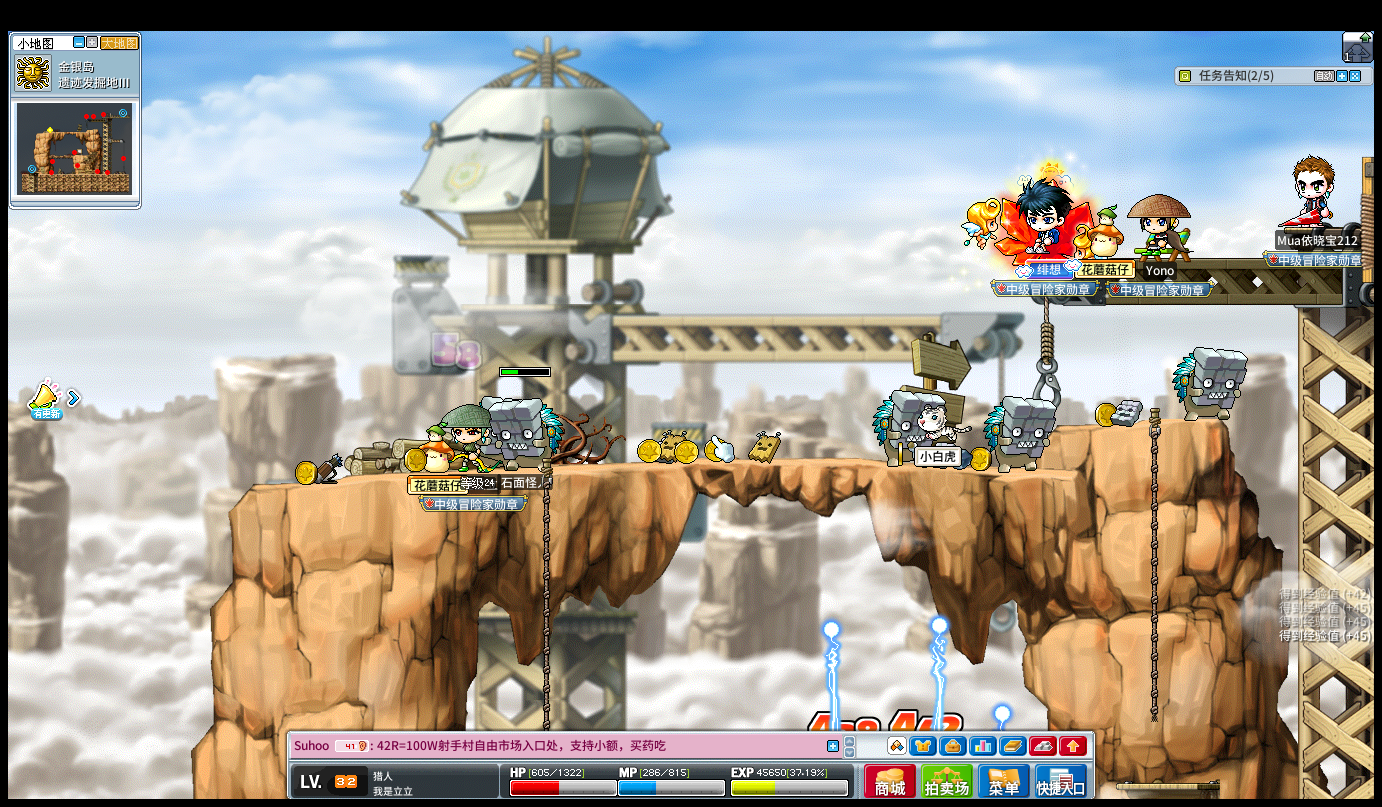floor: (204, 449, 1113, 485), (280, 454, 1102, 481), (1061, 416, 1228, 433)
monster: (1171, 345, 1246, 422), (984, 396, 1054, 472), (489, 398, 562, 469), (870, 390, 930, 467)
rope: (1146, 403, 1160, 723), (540, 460, 552, 688), (1040, 299, 1052, 391)
